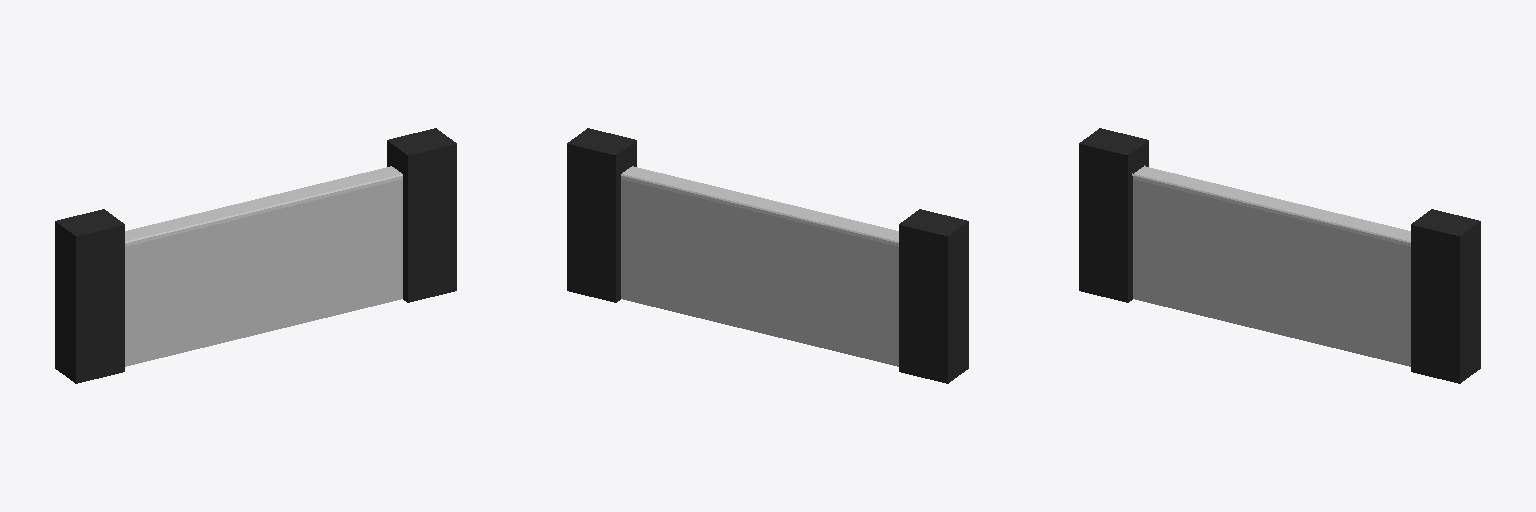
File: Tembok.obj
The picture shows the model from 3 angles: view 1: azimuth 30°, elevation 25°; view 2: azimuth 150°, elevation 25°; view 3: azimuth 330°, elevation 25°; orthographic projection.
Parts seen in each view (by area): view 1: Cube_Cube.001; view 2: Cube_Cube.001; view 3: Cube_Cube.001.
Boxes of the visible parts, x1,y1,x2,y2 form: Cube_Cube.001: [55, 128, 456, 383]; Cube_Cube.001: [567, 128, 968, 383]; Cube_Cube.001: [1079, 128, 1480, 383].
Bounding box in the file's own units: 15.47 × 5.72 × 1.49.